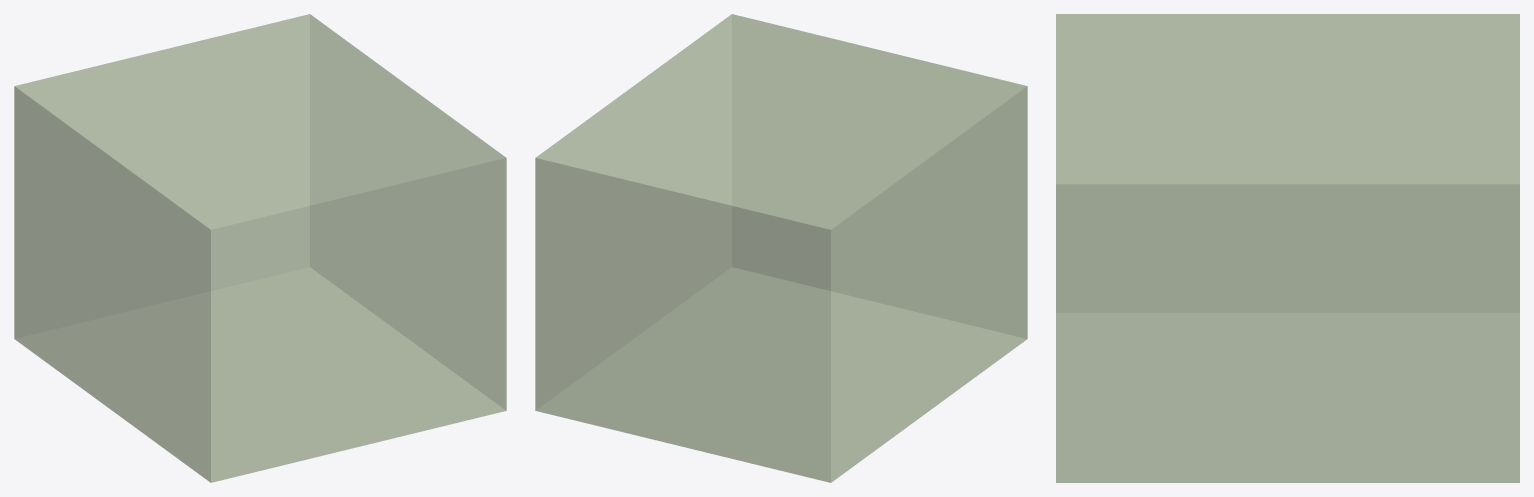
The model's file is blockout.glb.
3 renders of one model, left to right at view 1: azimuth 30°, elevation 25°; view 2: azimuth 150°, elevation 25°; view 3: azimuth 270°, elevation 25°, orthographic. The views are drawn at different scales.
Parts seen in each view (by area): view 1: U17_ENVELOPE_NOT_FINAL_MESH; view 2: U17_ENVELOPE_NOT_FINAL_MESH; view 3: U17_ENVELOPE_NOT_FINAL_MESH.
Part boxes in pixels (x1,y1,x2,y2): U17_ENVELOPE_NOT_FINAL_MESH: (14, 14, 506, 482); U17_ENVELOPE_NOT_FINAL_MESH: (535, 14, 1027, 482); U17_ENVELOPE_NOT_FINAL_MESH: (1056, 14, 1519, 482).
Bounding box in the file's own units: 3.3 × 2.7 × 3.8.
